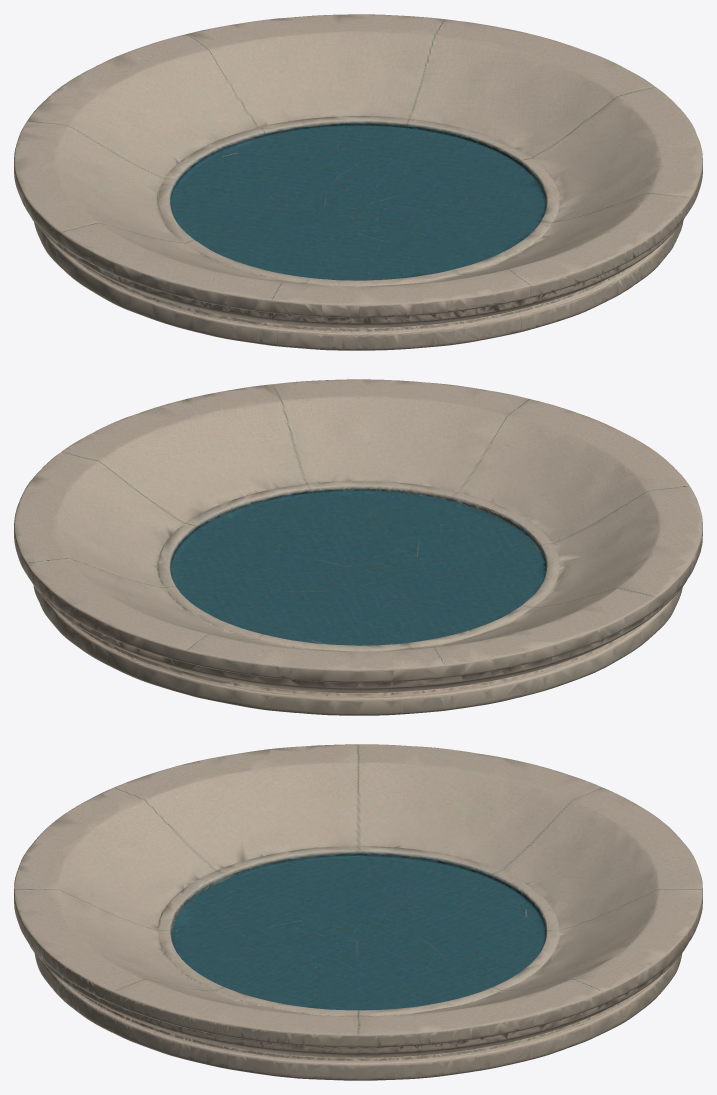
File: fountain.glb
3 views of the same model, one above another, from view 1: azimuth 30°, elevation 25°; view 2: azimuth 150°, elevation 25°; view 3: azimuth 270°, elevation 25° (orthographic).
Visible parts, largest first — view 1: mesh_node; view 2: mesh_node; view 3: mesh_node.
Boxes of the visible parts, x1,y1,x2,y2 form: mesh_node: [14, 14, 702, 350]; mesh_node: [14, 379, 702, 715]; mesh_node: [14, 744, 702, 1080].
Bounding box in the file's own units: 1.9 × 0.1676 × 1.9.
1 material, 1 textured.
